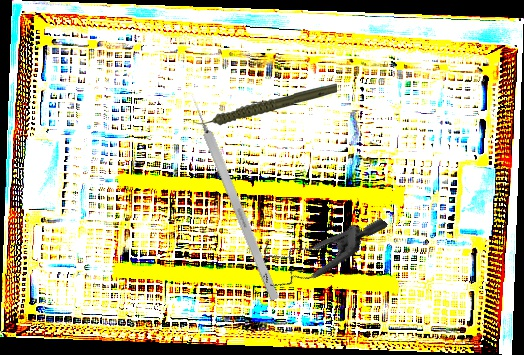Handpiece: (192, 82, 338, 127)
Hook Surgical: (187, 92, 280, 302)
Speculum: (248, 173, 389, 321)
